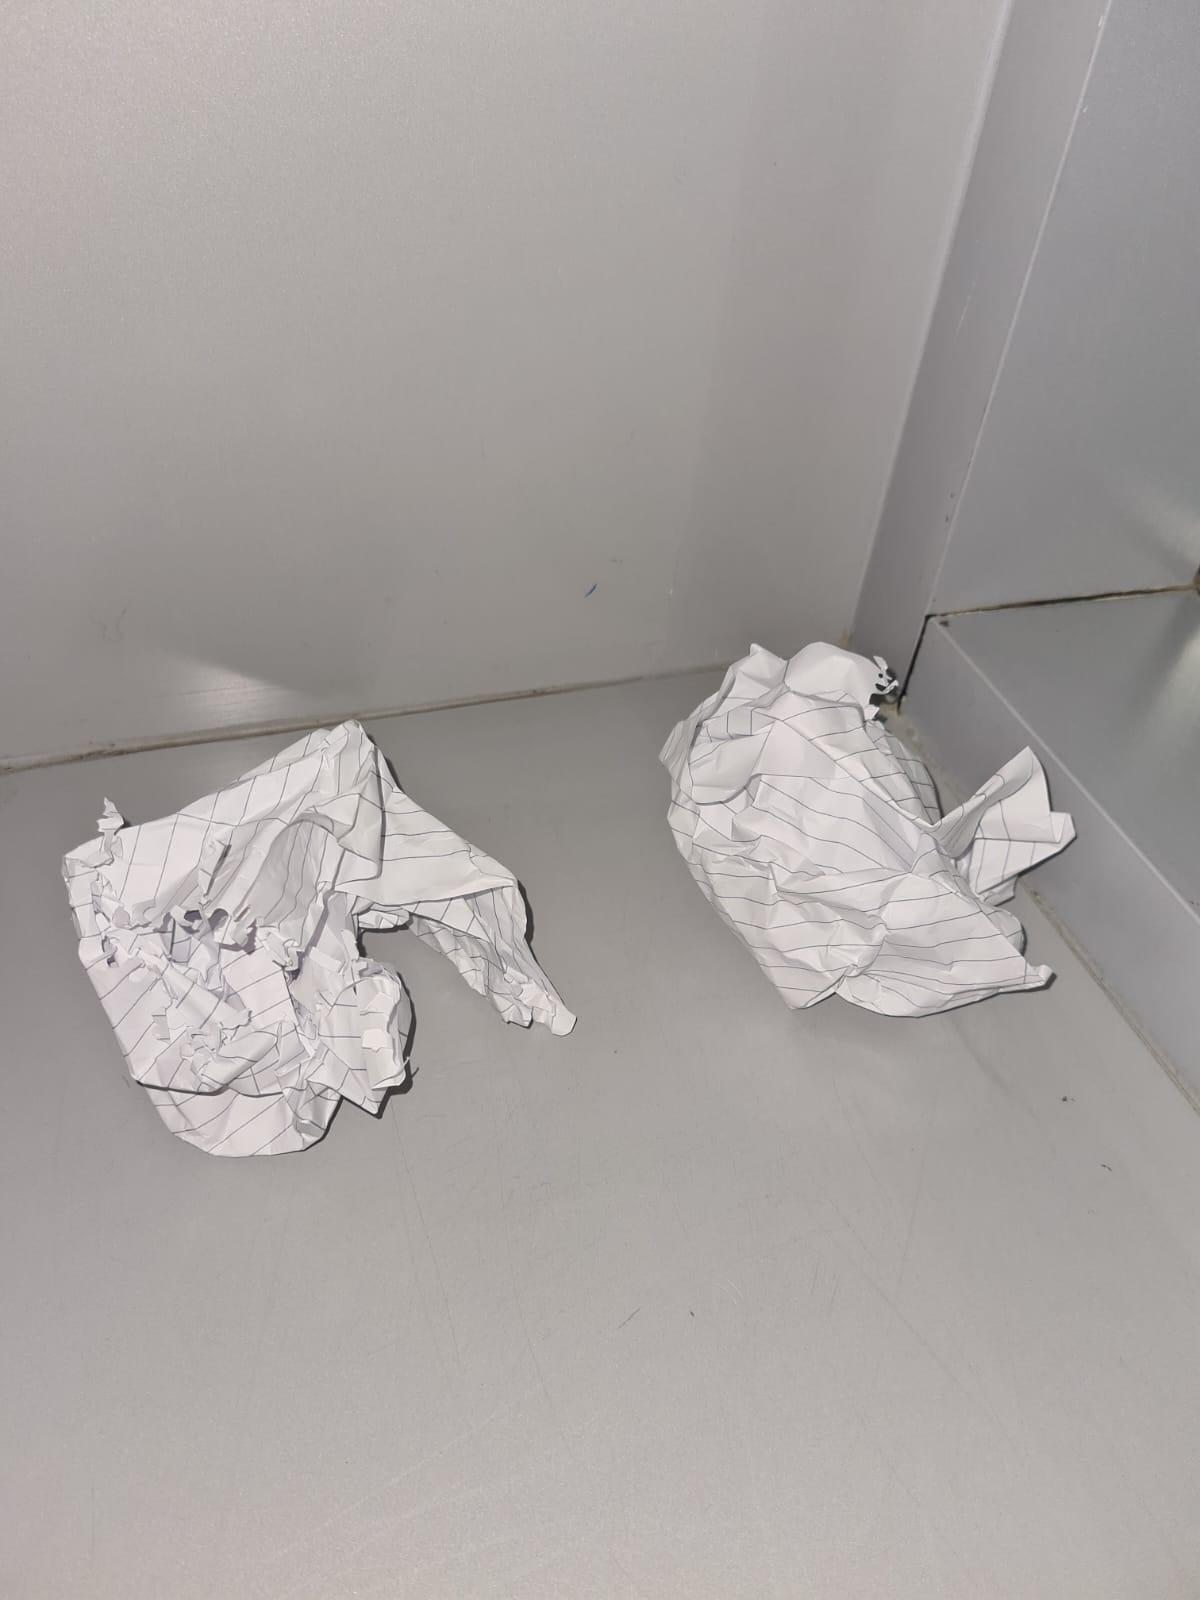Paper: (58, 731, 580, 1171), (635, 624, 1094, 1041)
